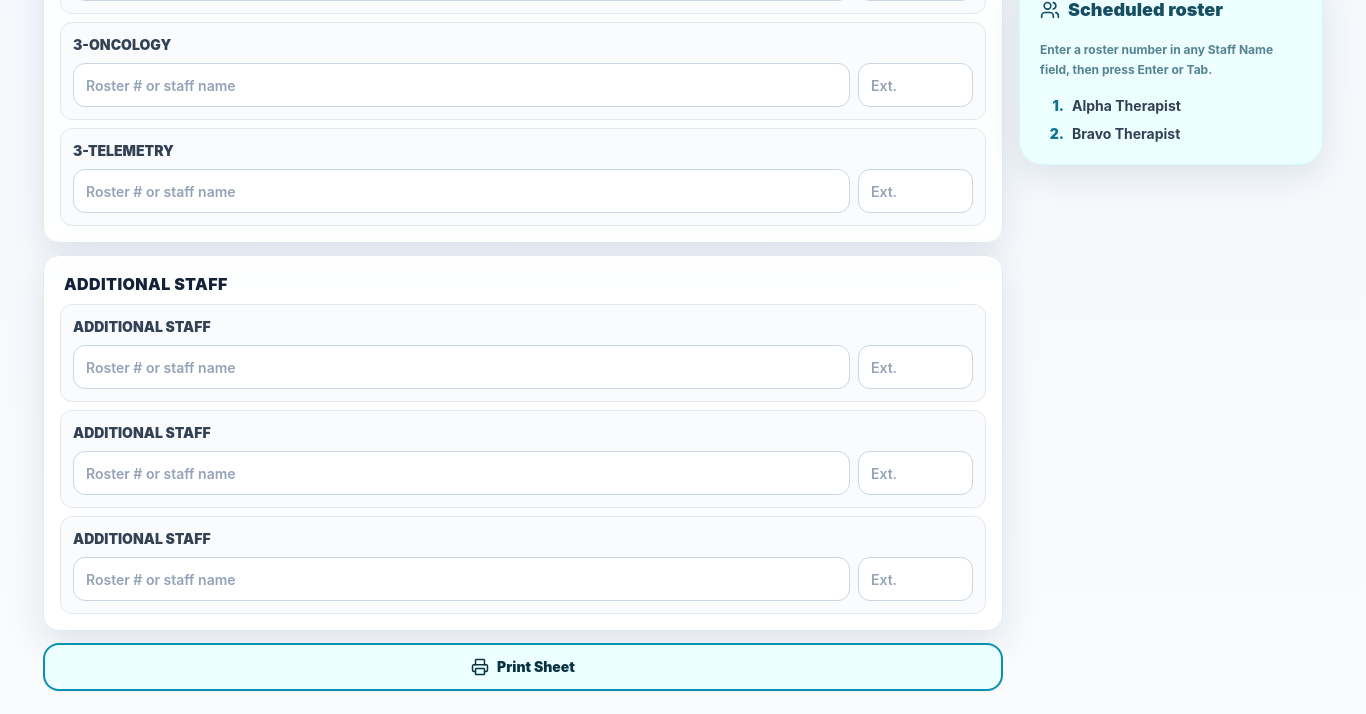
Test: PhoneListClient › blocks printing and navigation when roster capture fails
(page scrolled)
Click the button "Print Sheet" at coordinates (523, 667), box [43, 643, 1003, 691]
(page scrolled)
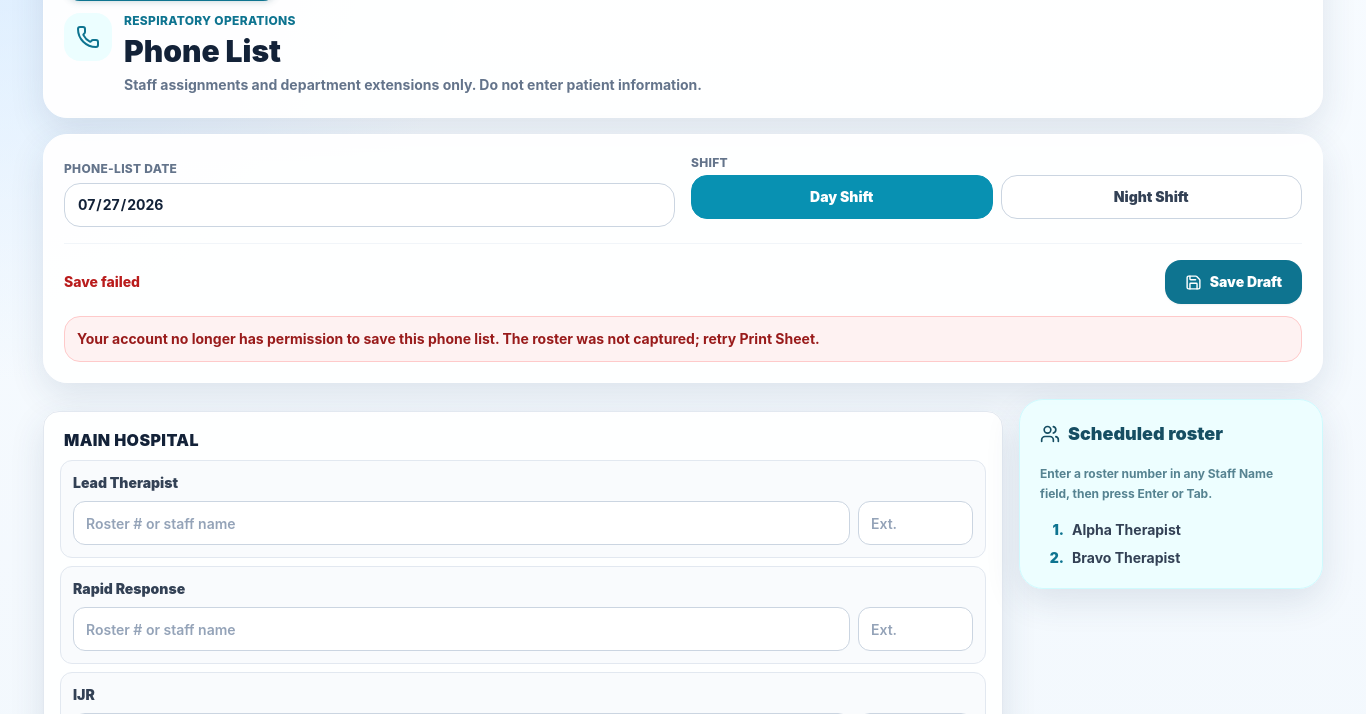
Expected: the message shows "retry Print Sheet", [77, 330, 820, 347]
